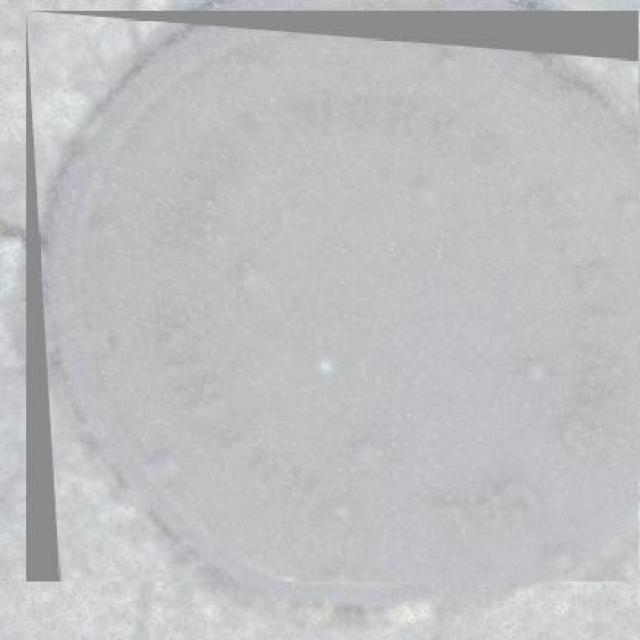Manhole: (26, 11, 639, 582)
